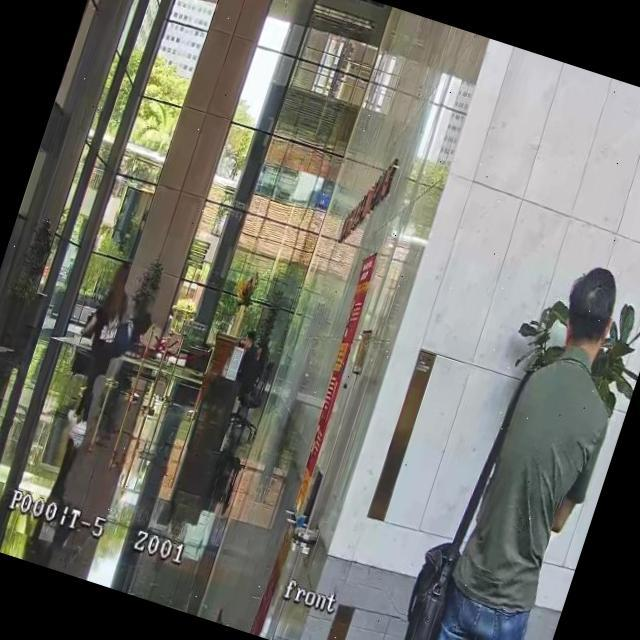person: (408, 253, 640, 640), (51, 255, 142, 440), (228, 329, 268, 396), (247, 338, 272, 382)
